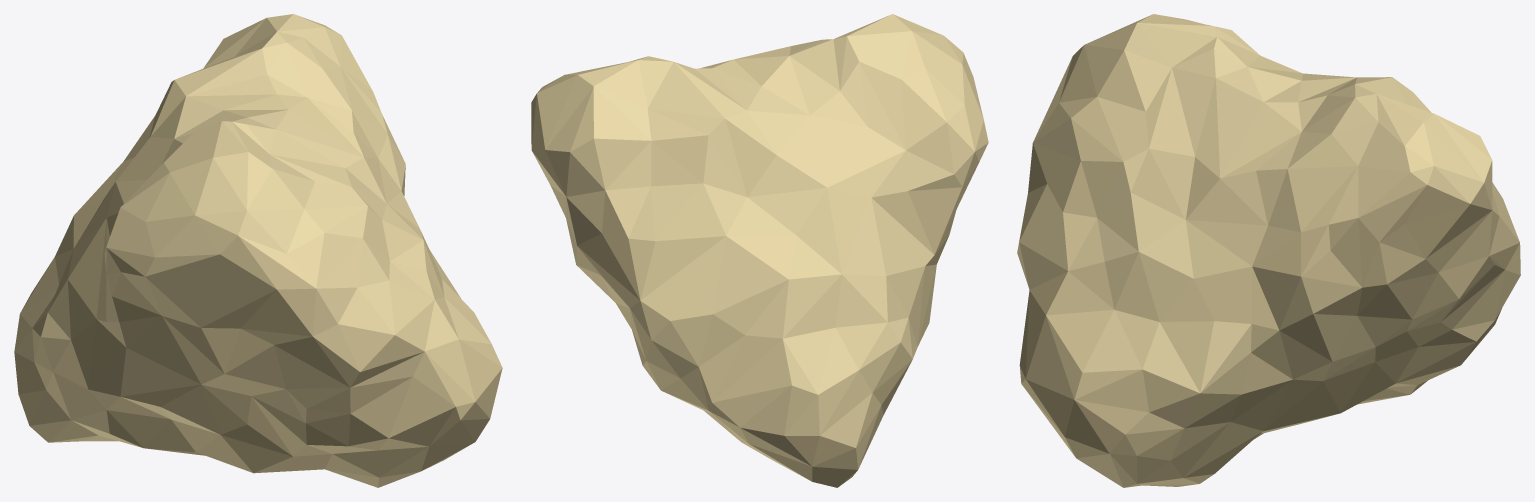
File: Asteroid (41).fbx
3 renders of one model, left to right at view 1: azimuth 30°, elevation 25°; view 2: azimuth 150°, elevation 25°; view 3: azimuth 270°, elevation 25°, orthographic. The views are drawn at different scales.
Visible parts, largest first — view 1: Asteroid179; view 2: Asteroid179; view 3: Asteroid179.
Part boxes in pixels (box(x1,y1,x2,y2)): Asteroid179: box(14, 14, 502, 487); Asteroid179: box(531, 14, 988, 487); Asteroid179: box(1017, 14, 1520, 487).
Size of the model in its own units: 314 by 314 by 364.
